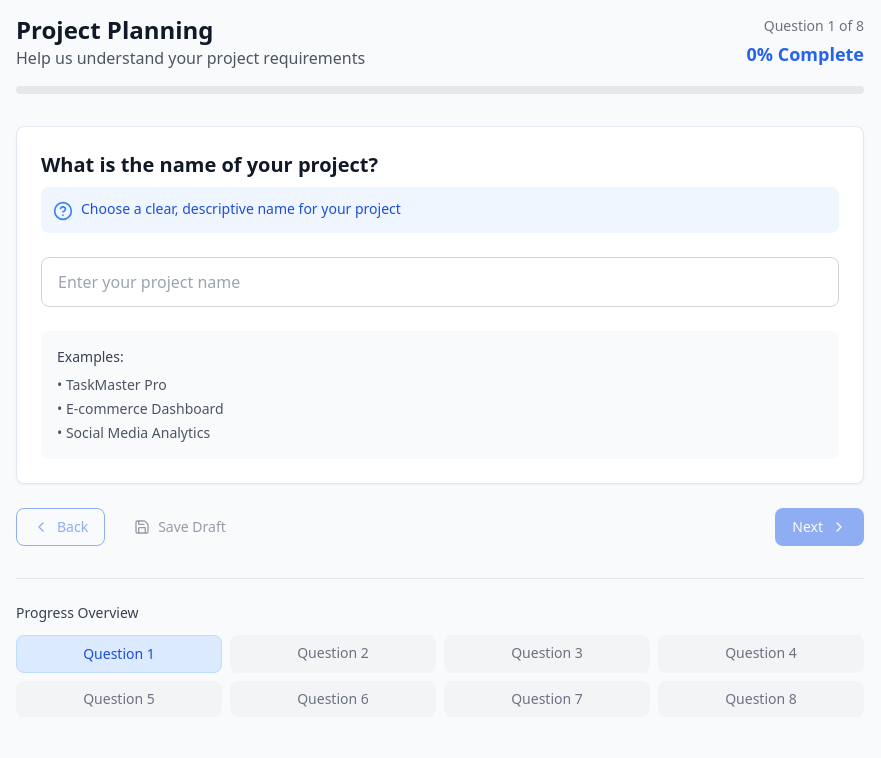
Test: PlanningFlow › Question Navigation › should navigate to next question when Next is clicked with valid answer
The image size is (881, 758).
Note: Fill in the first question
Step 1. Type "Test Project" into the field with placeholder "Enter your project name" → (440, 282), box [41,257,839,307]
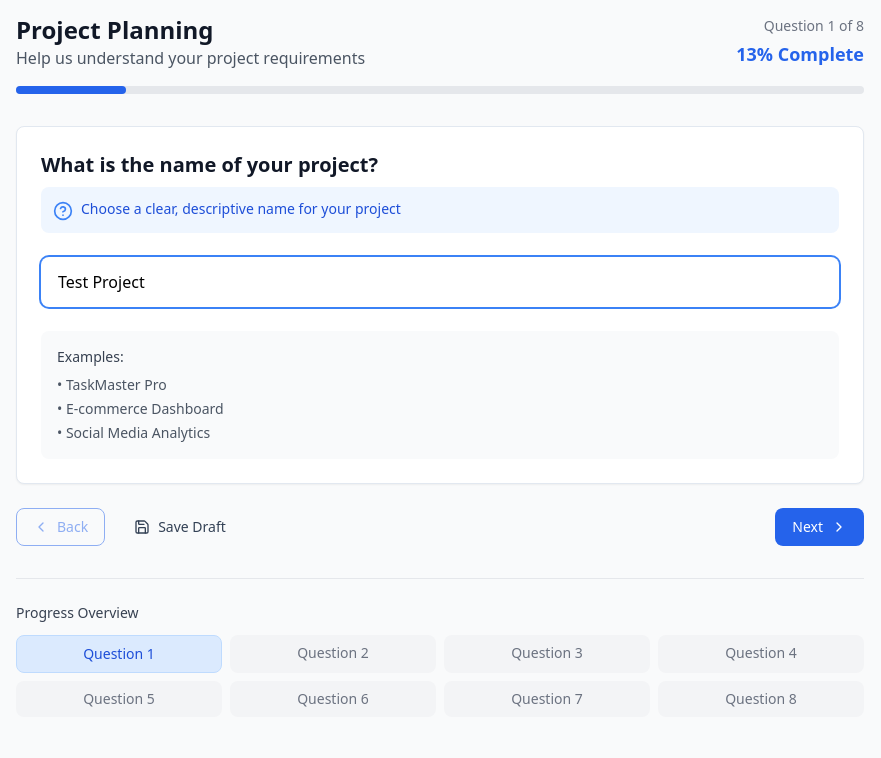
Expected: the button "Next" is enabled
Note: Click Next
Step 2. Click the button "Next" → click(820, 527), box [775,508,864,546]
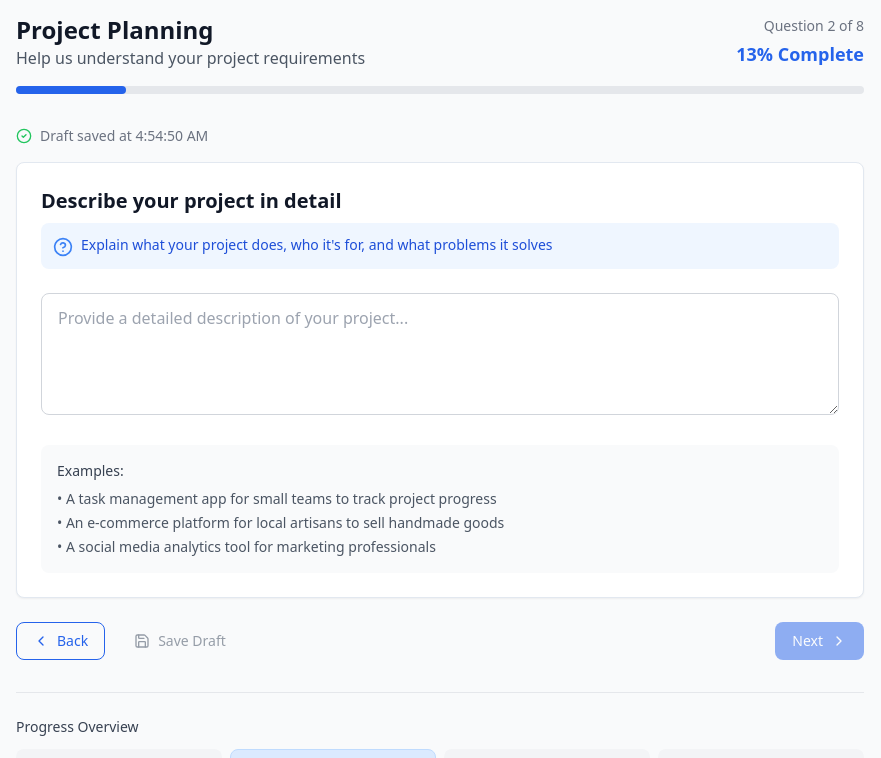
Expected: the heading "Describe your project in detail" is shown, [41,187,342,214]
Expected: the text "Question 2 of 8" is shown, [764,16,864,35]
